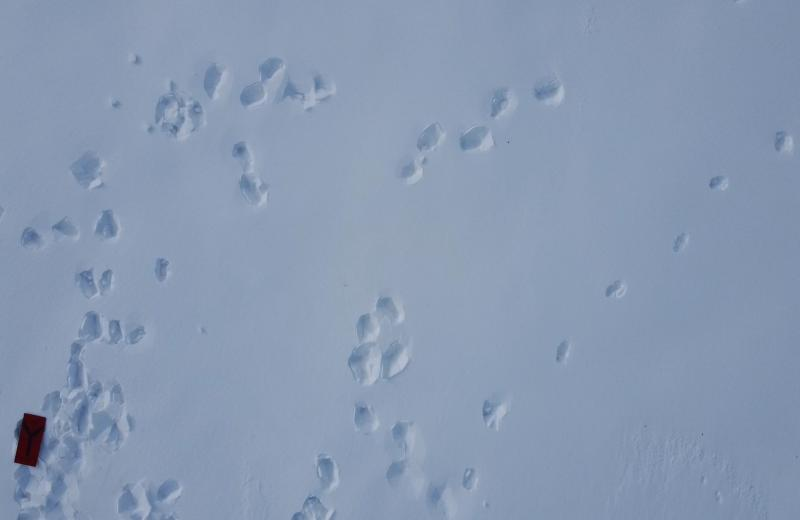Rectangle: (13, 414, 48, 468)
